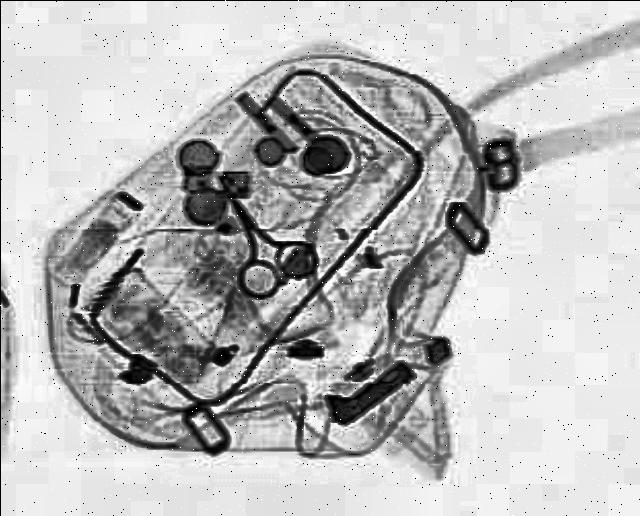Scissors: (184, 173, 334, 305)
